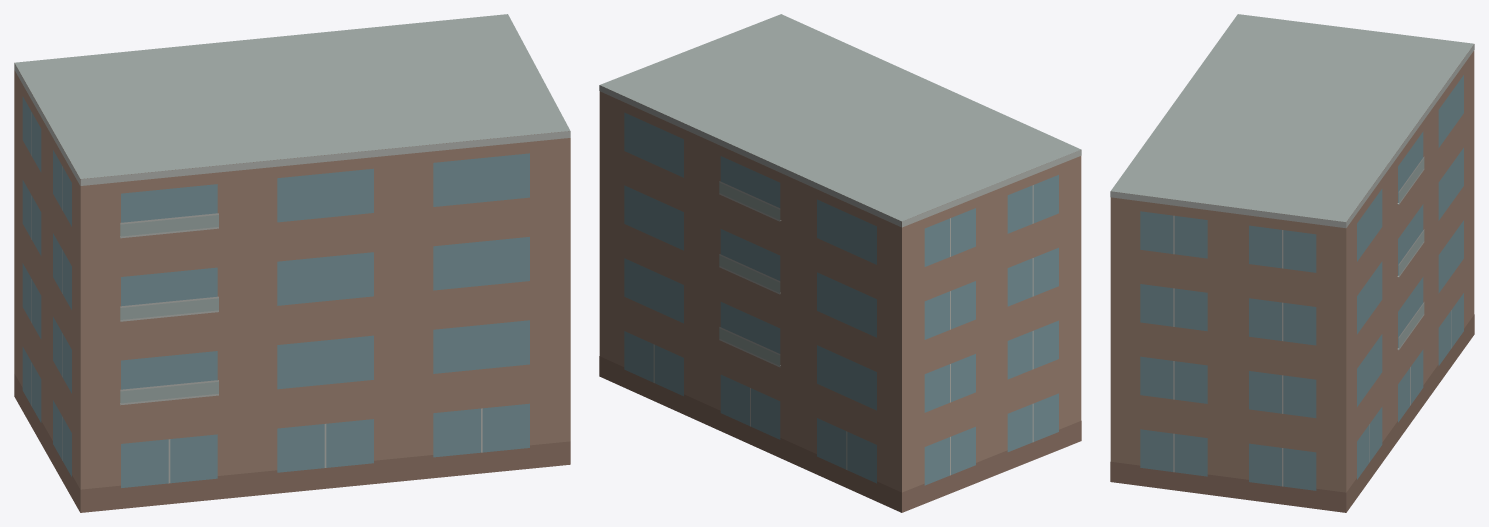
The model's file is survey-upis-32945638.glb.
3 renders of one model, left to right at view 1: azimuth 30°, elevation 25°; view 2: azimuth 150°, elevation 25°; view 3: azimuth 270°, elevation 25°, orthographic. The views are drawn at different scales.
Parts seen in each view (by area): view 1: survey-upis-32945638.tmp; view 2: survey-upis-32945638.tmp; view 3: survey-upis-32945638.tmp.
Part boxes in pixels (x1,y1,x2,y2): survey-upis-32945638.tmp: (14,14,570,512); survey-upis-32945638.tmp: (599,14,1081,512); survey-upis-32945638.tmp: (1110,14,1474,512).
Bounding box in the file's own units: 17.9 × 11.65 × 13.23.
